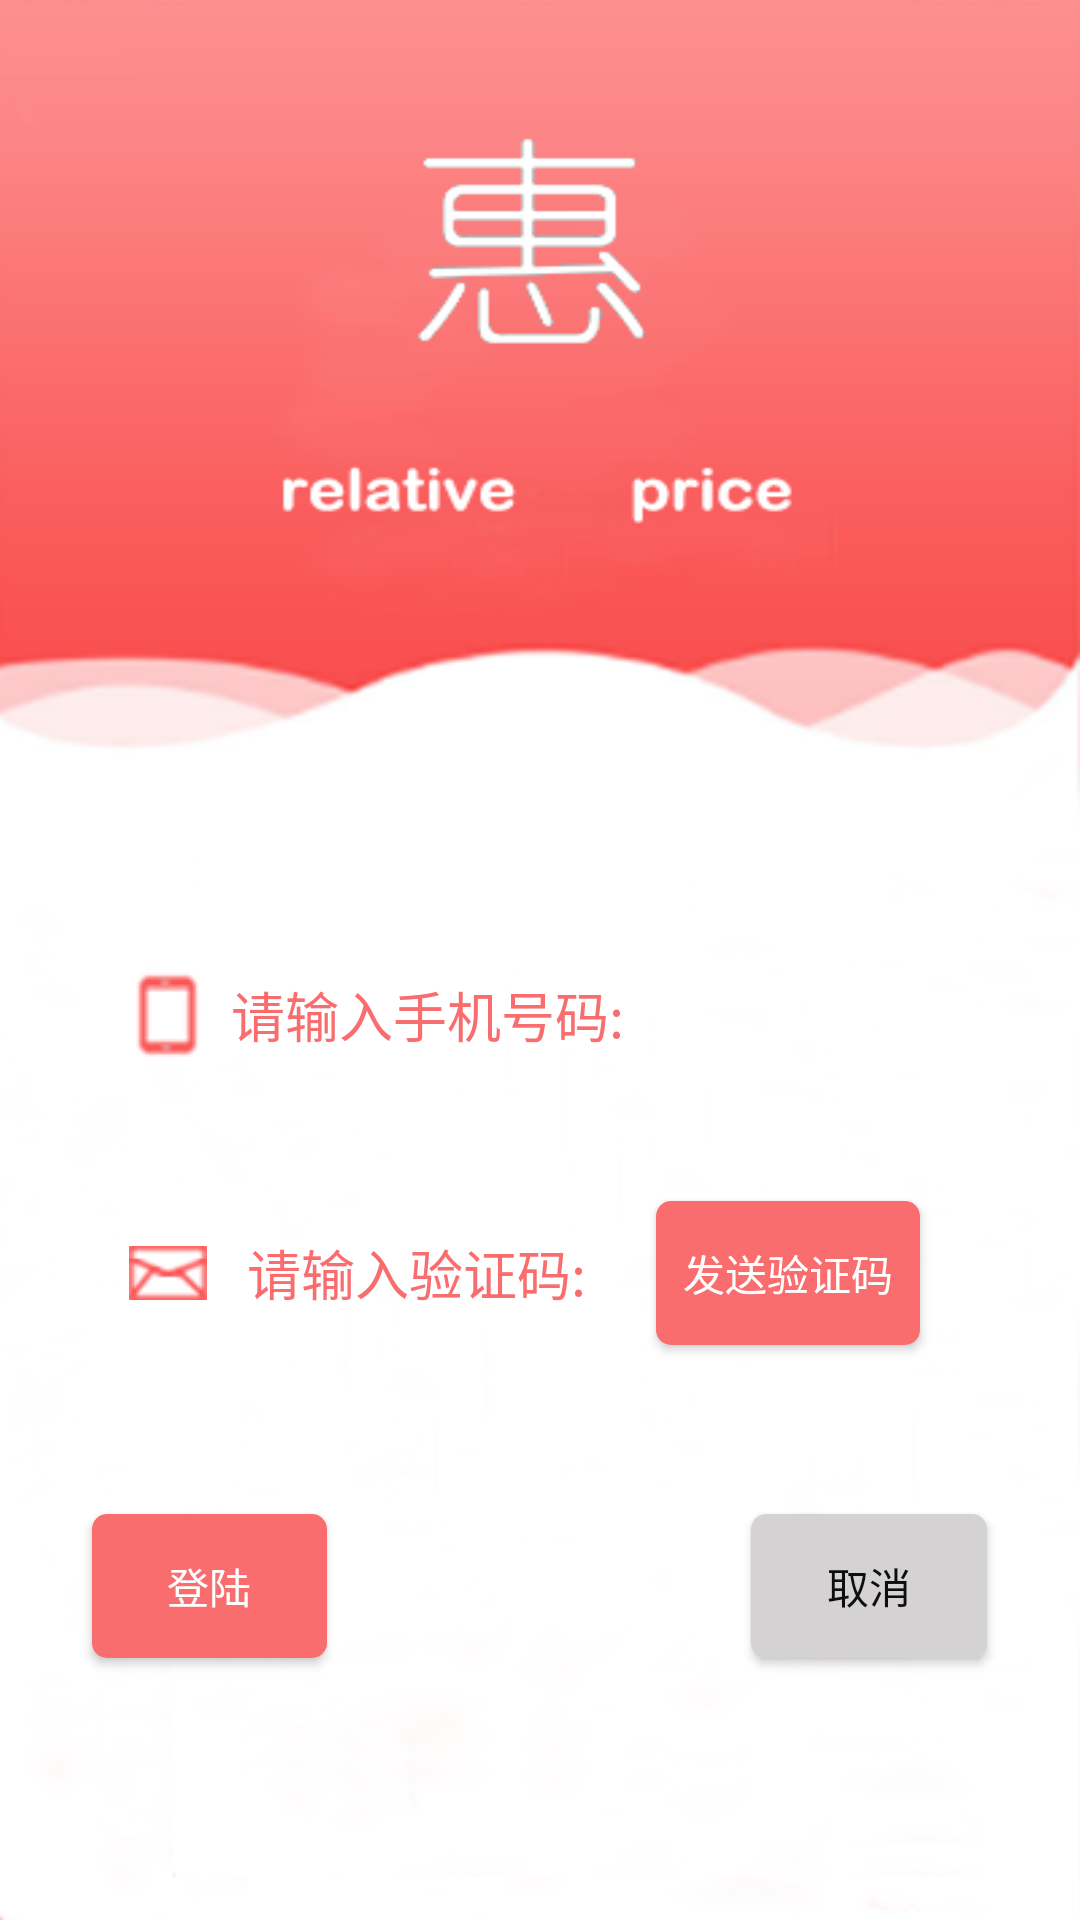

Where to tap for icons on this 1080 x 1920 app screen, as point (x, y):
message: point (168, 1273)
phone: point (167, 1015)
